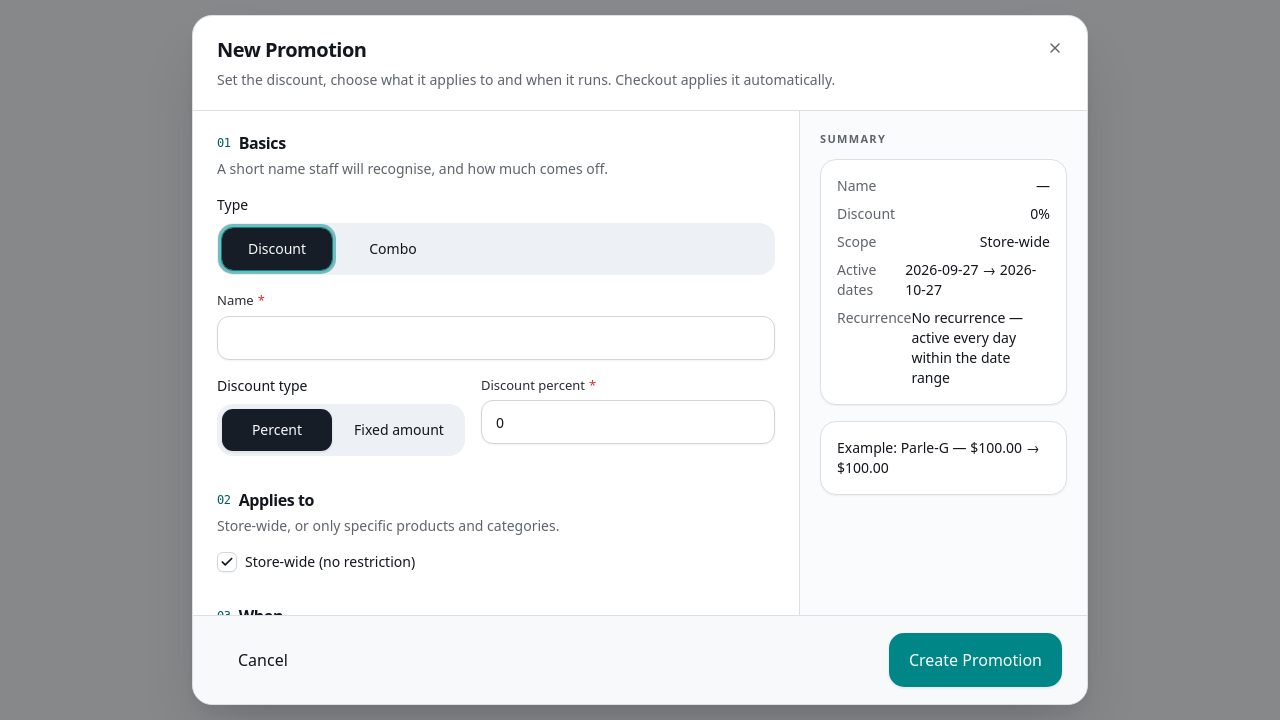
Scenario: PromotionDialog › combo mode: switching pricing type resets the pricing value field
This screenshot has width=1280, height=720.
Click the button with test id "promotion-kind-combo" at [393, 249], box [337,227,449,271]
(page scrolled)
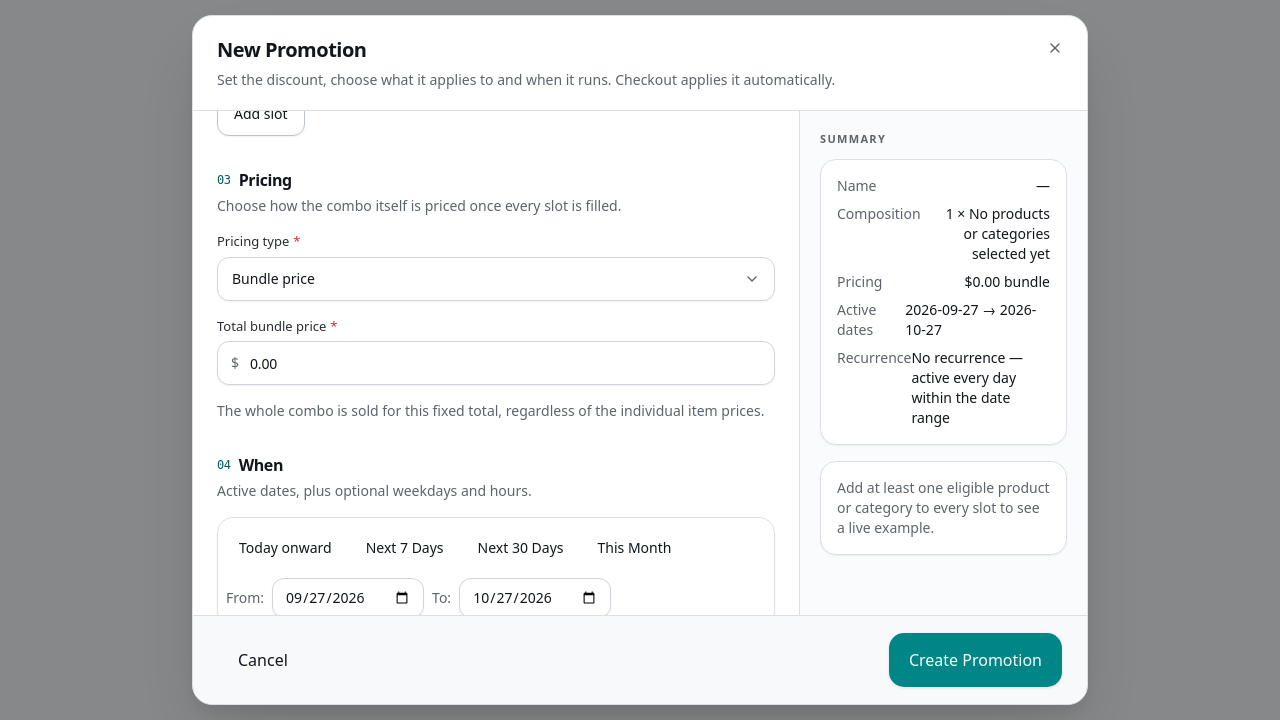
Type "2" into the field with test id "combo-pricing-value" at [496, 363], box [217,341,775,385]
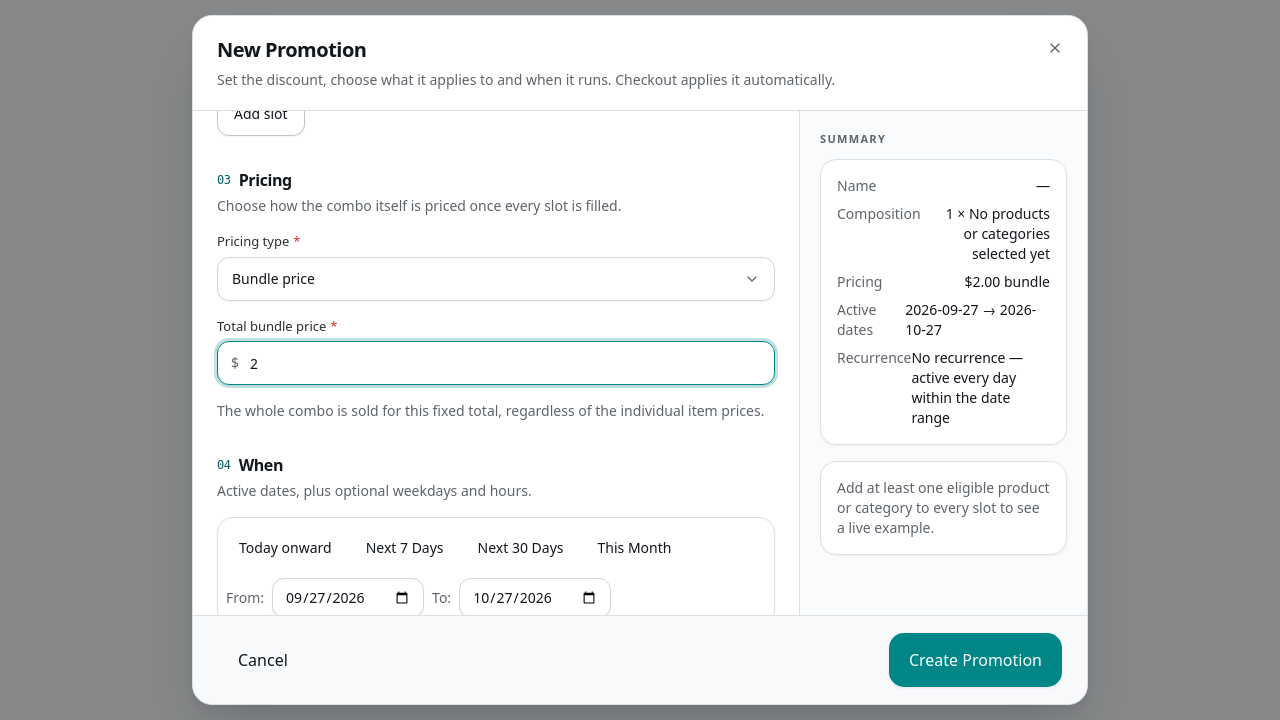
Click the dropdown with test id "combo-pricing-type" at [273, 278], box [217,257,775,301]
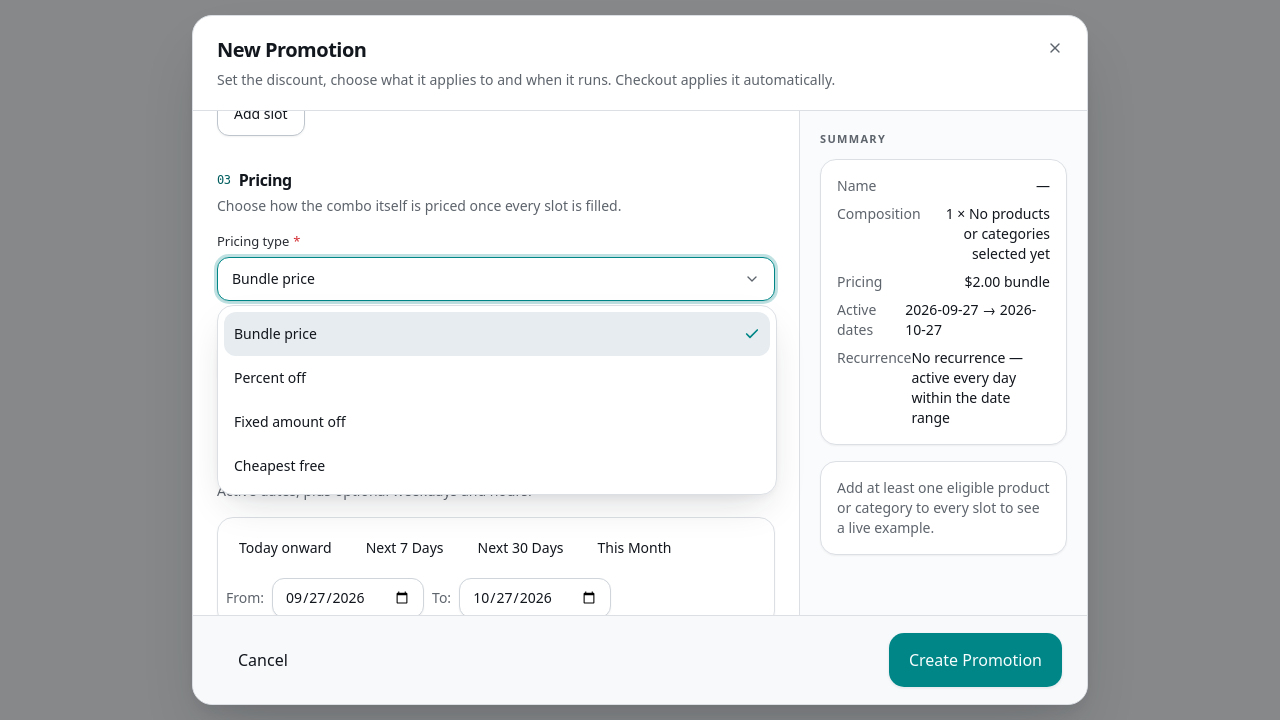
Click the option "Cheapest free" at [280, 466], box [234,456,325,475]
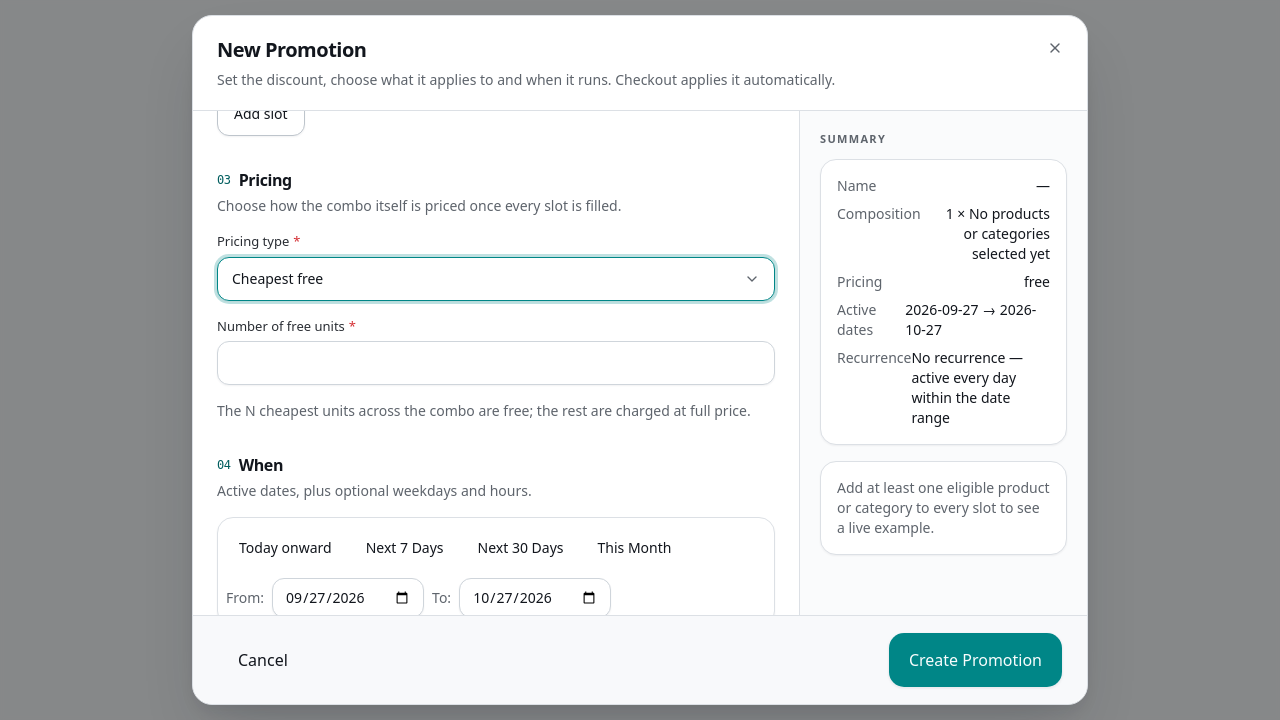
Check: the number field with test id "combo-pricing-value" is not empty, box [217,341,775,385]
